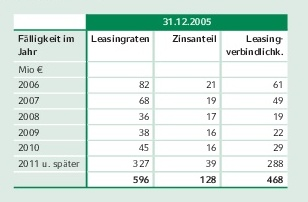table: (0, 0, 308, 202)
